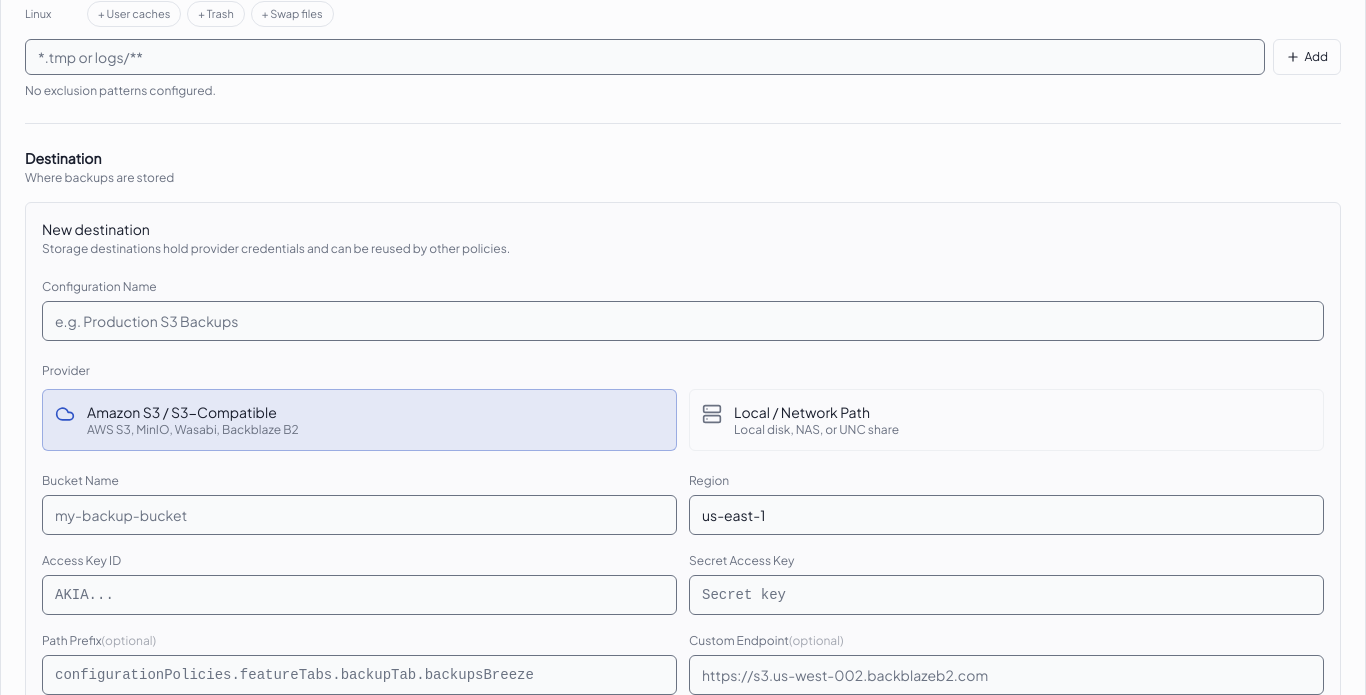
it: BackupTab › blocks s3 create when region is empty and not derivable from the endpoint
The image size is (1366, 695).
(page scrolled)
With no configs the tab drops into create mode automatically
Type "My B2" into the field with placeholder "e.g. Production S3 Backups" at (683,321), box [42,301,1324,341]
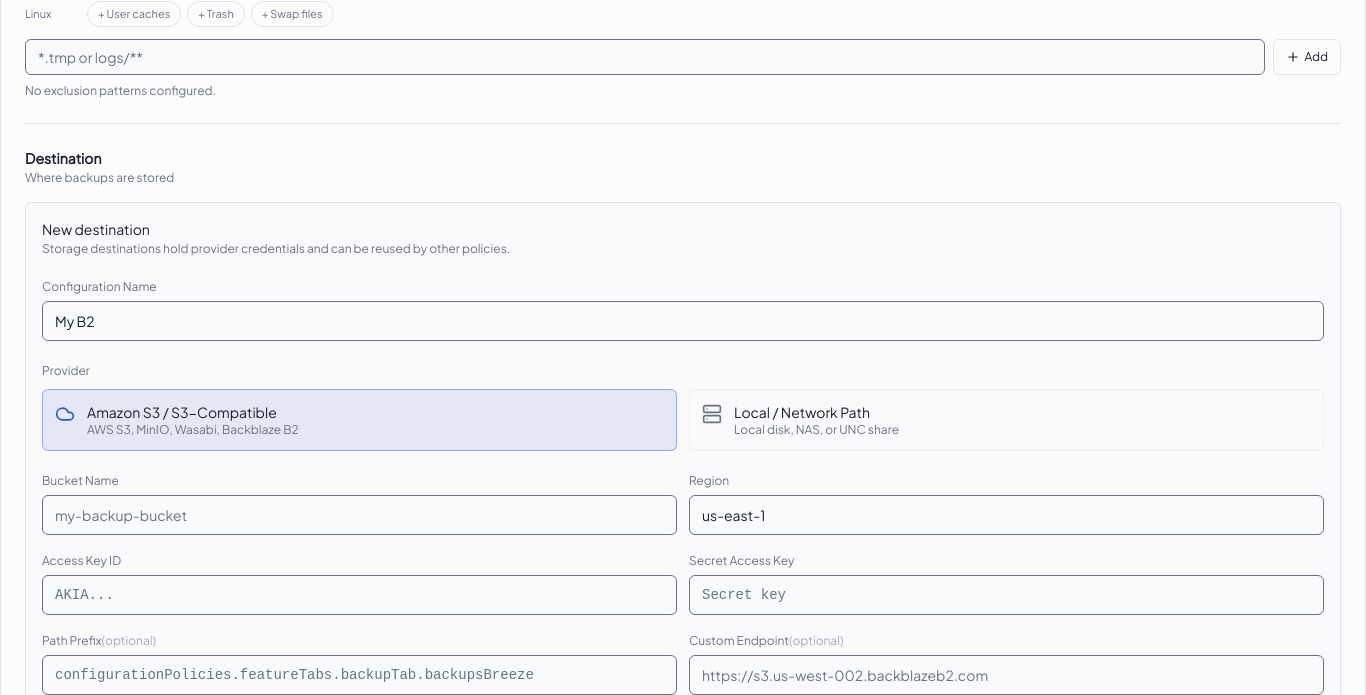
Type "bucket" into the field with placeholder "my-backup-bucket" at (360,515), box [42,495,677,535]
(page scrolled)
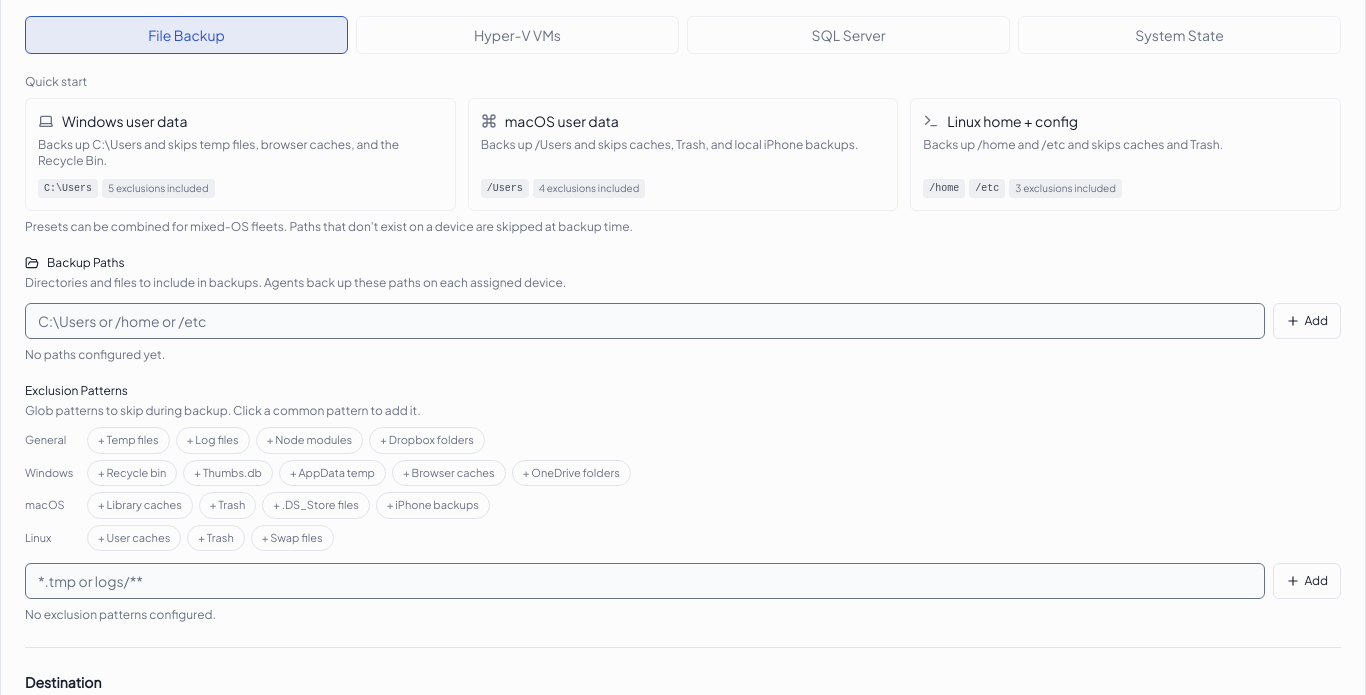
Satisfy the backup-path requirement so the region check is what fires
Type "/data" into the field with placeholder "C:\\Users or /home or /etc" at (645,321), box [25,303,1265,339]
(page scrolled)
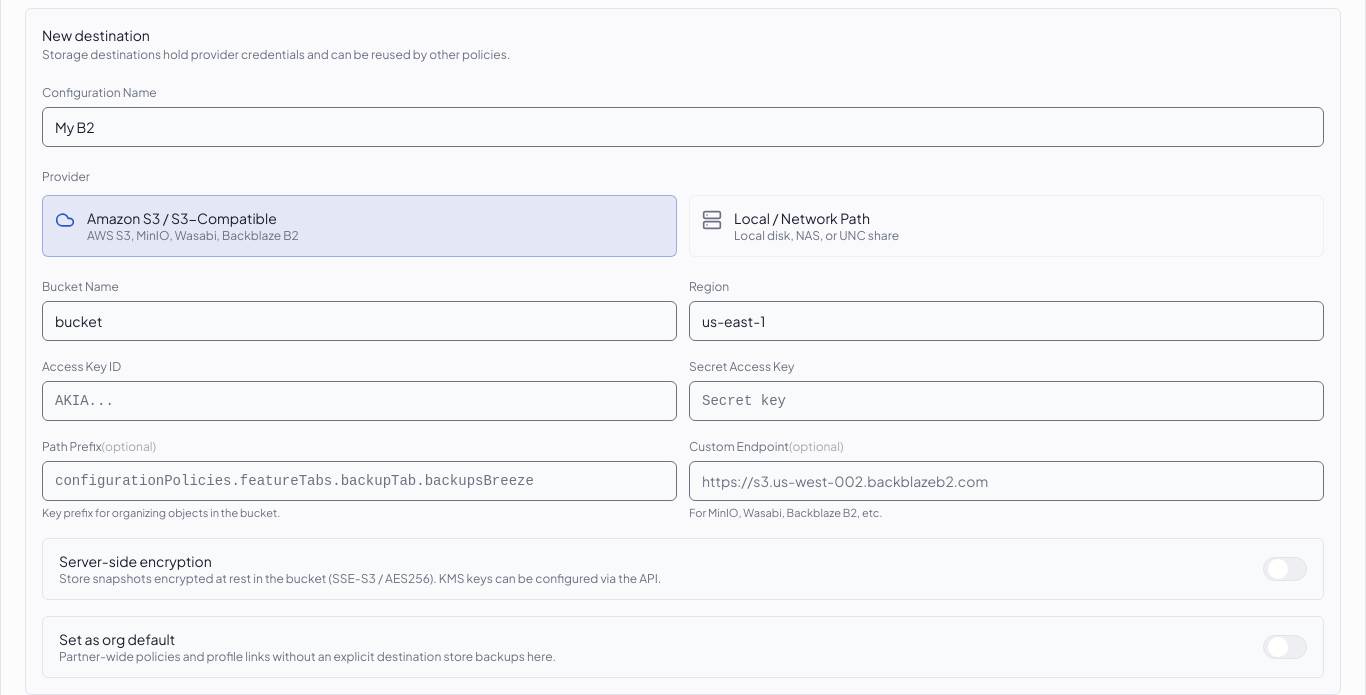
Clear the field with placeholder "us-east-1" below "Region" at (1006,321), box [689,301,1324,341]
(page scrolled)
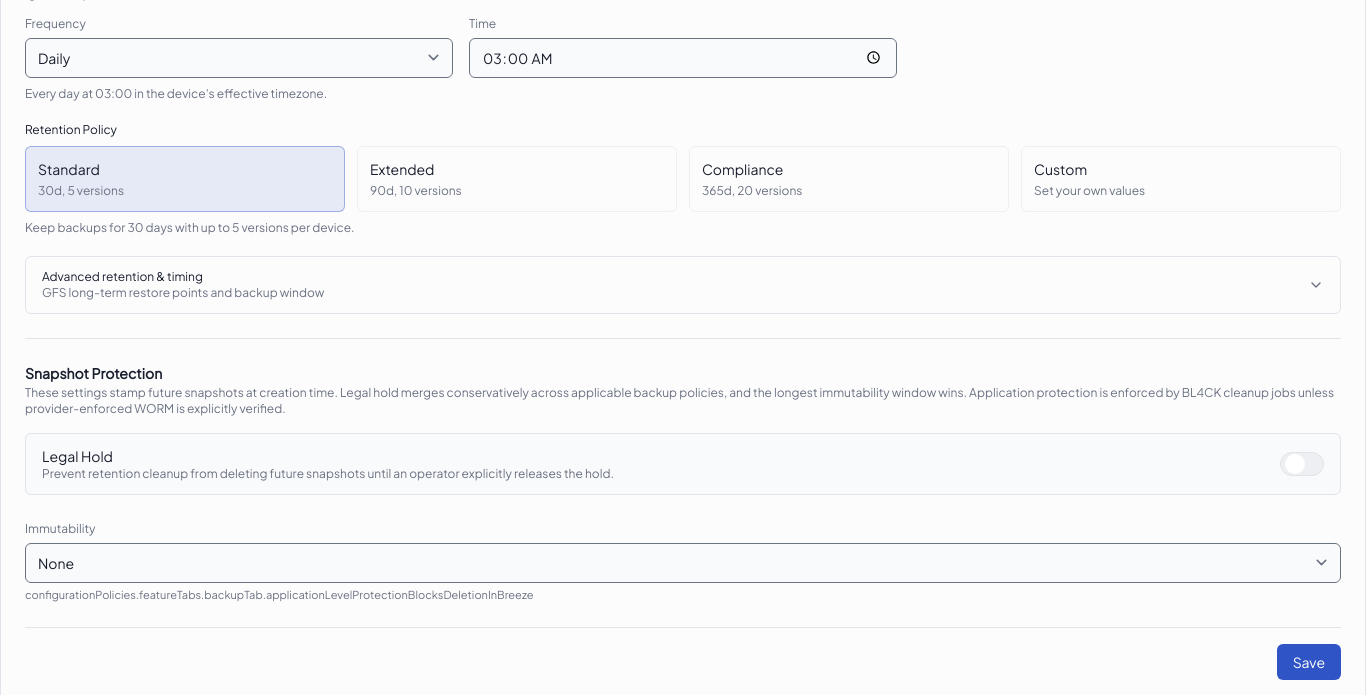
Click the button "Save" at (1309,662), box [1277,644,1341,680]
(page scrolled)
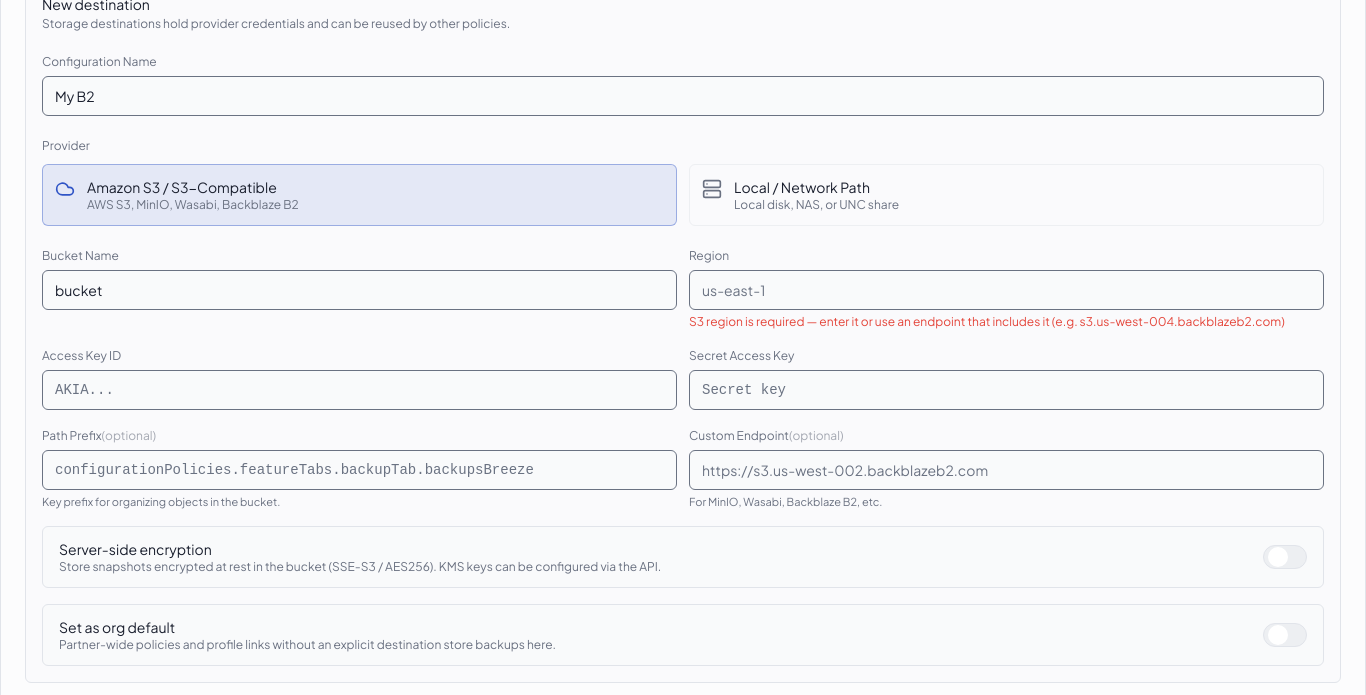
Result: the text "S3 region is required" is shown at [689,314,1285,328]
